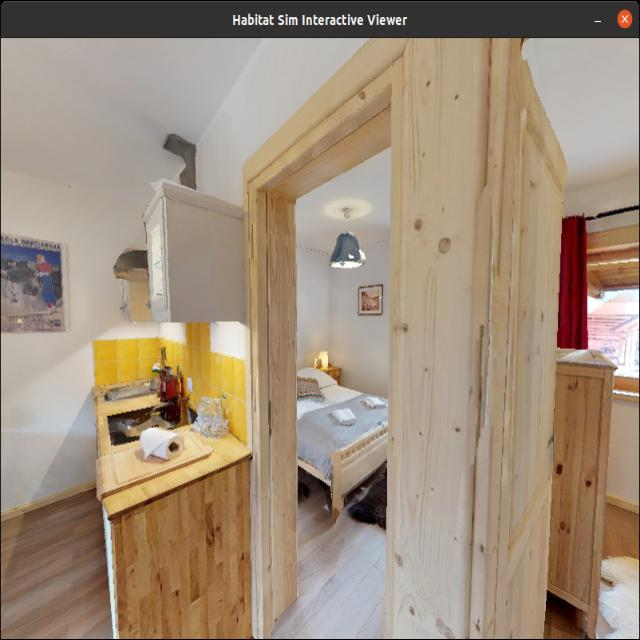bed: (283, 361, 398, 517)
door-frame: (240, 42, 438, 640)
